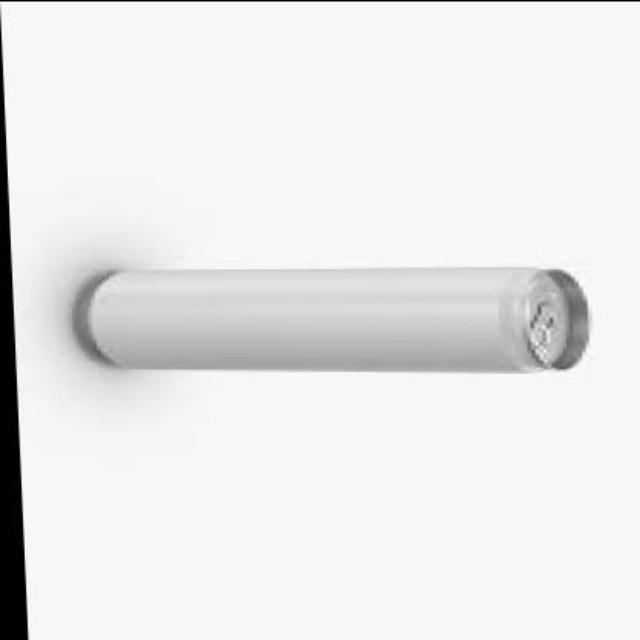trash: (74, 268, 588, 371)
